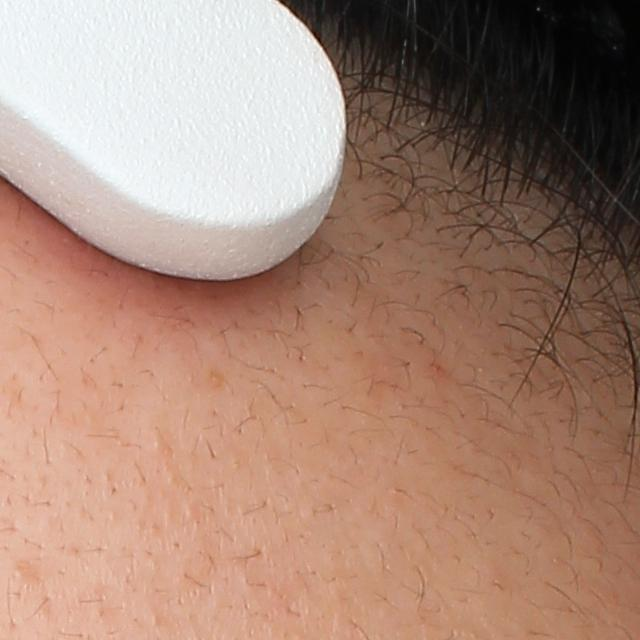comedo: (149, 434, 168, 454)
